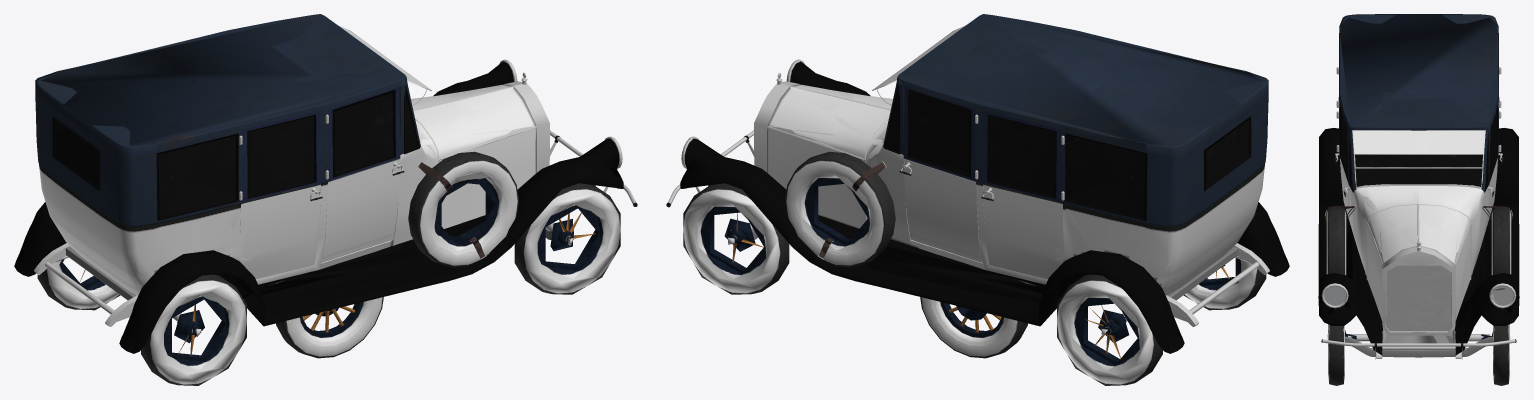
File: pierce-arrow.glb
3 views of the same model, side by side, from view 1: azimuth 30°, elevation 25°; view 2: azimuth 150°, elevation 25°; view 3: azimuth 270°, elevation 25° (orthographic). The views are drawn at different scales.
Parts seen in each view (by area): view 1: body, lo, wheel; view 2: body, lo, wheel; view 3: body, lo.
Part boxes in pixels (x1=…): body: x1=14, y1=14, x2=637, y2=353; lo: x1=15, y1=14, x2=620, y2=385; wheel: x1=276, y1=297, x2=383, y2=358; body: x1=666, y1=14, x2=1289, y2=353; lo: x1=683, y1=14, x2=1287, y2=385; wheel: x1=920, y1=297, x2=1027, y2=358; body: x1=1318, y1=14, x2=1519, y2=359; lo: x1=1318, y1=14, x2=1519, y2=385.
Size of the model in its own units: 5.1 by 2.85 by 2.16.
1 material, 1 textured.
